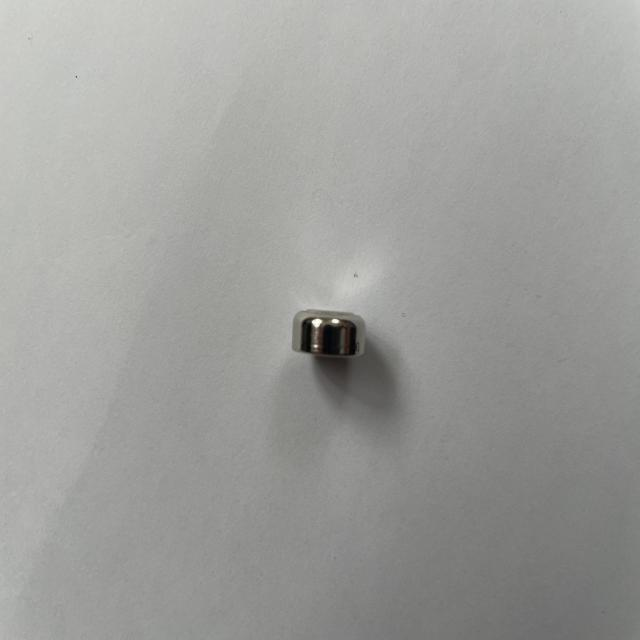COIN: (280, 300, 373, 364)
